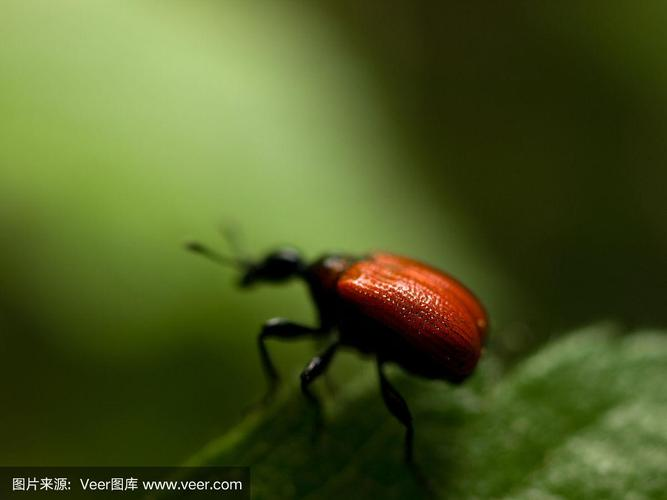Curculionidae: (185, 216, 495, 491)
